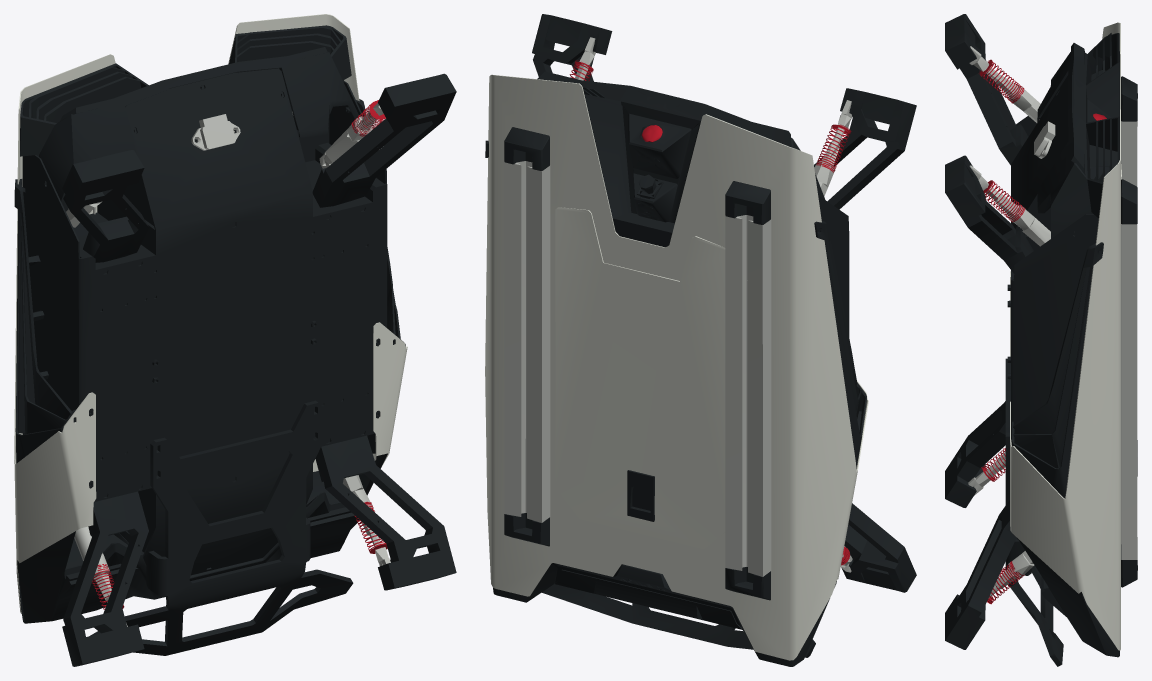
File: body.dae
The picture shows the model from 3 angles, left to right: view 1: azimuth 30°, elevation 25°; view 2: azimuth 150°, elevation 25°; view 3: azimuth 270°, elevation 25°; orthographic projection. The views are drawn at different scales.
Visible parts, largest first — view 1: body; view 2: body; view 3: body.
Part boxes in pixels (x1,y1,x2,y2): body: (14,14,456,666); body: (485,14,916,666); body: (945,14,1137,666).
Bounding box in the file's own units: 0.3896 × 0.1821 × 0.5607.
